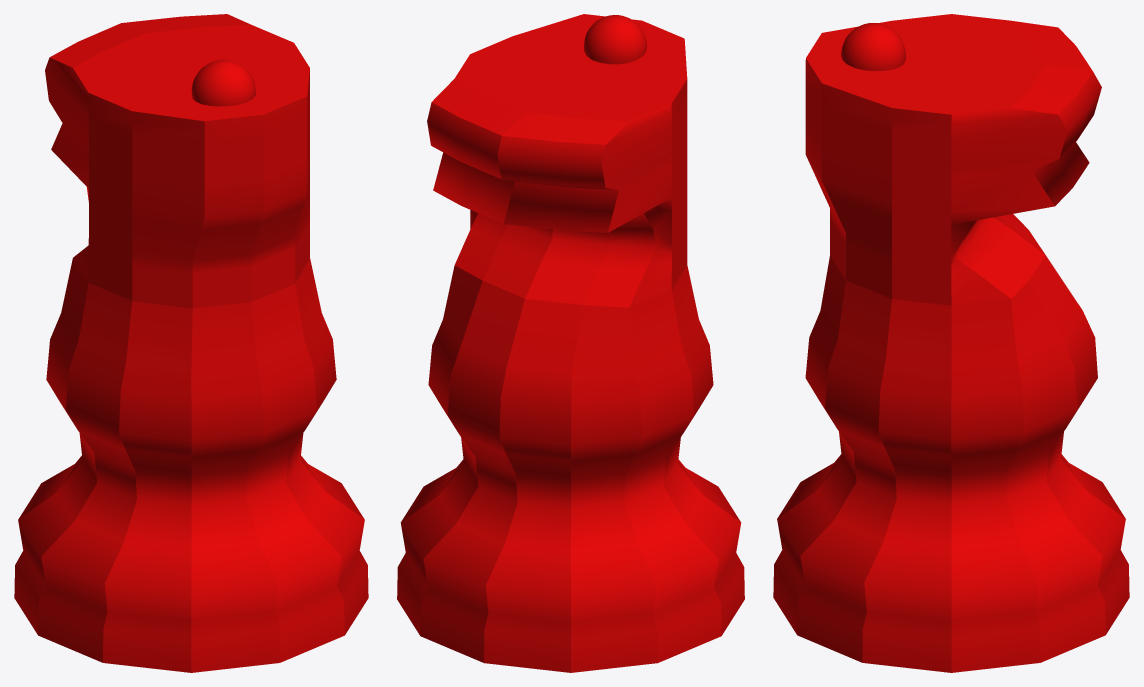
The model's file is SM_Knight.fbx.
The picture shows the model from 3 angles, left to right: view 1: azimuth 30°, elevation 25°; view 2: azimuth 150°, elevation 25°; view 3: azimuth 270°, elevation 25°; orthographic projection. The views are drawn at different scales.
Visible parts, largest first — view 1: pSphere2; view 2: pSphere2; view 3: pSphere2.
Part boxes in pixels (x1,y1,x2,y2): pSphere2: (14, 14, 368, 672); pSphere2: (397, 14, 744, 672); pSphere2: (773, 14, 1129, 672).
Bounding box in the file's own units: 1.39 × 2.45 × 1.39.
